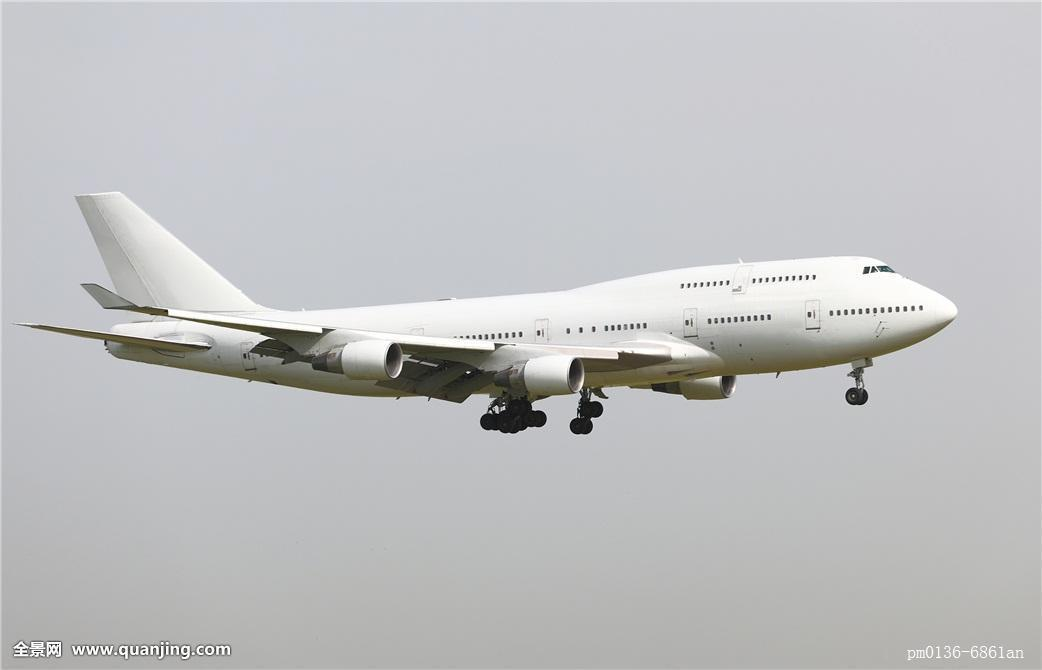airplane: (14, 187, 970, 436)
